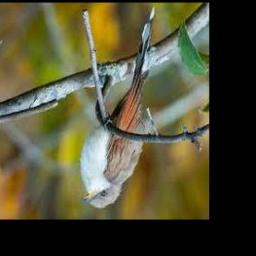Cuckoo: (81, 7, 155, 209)
